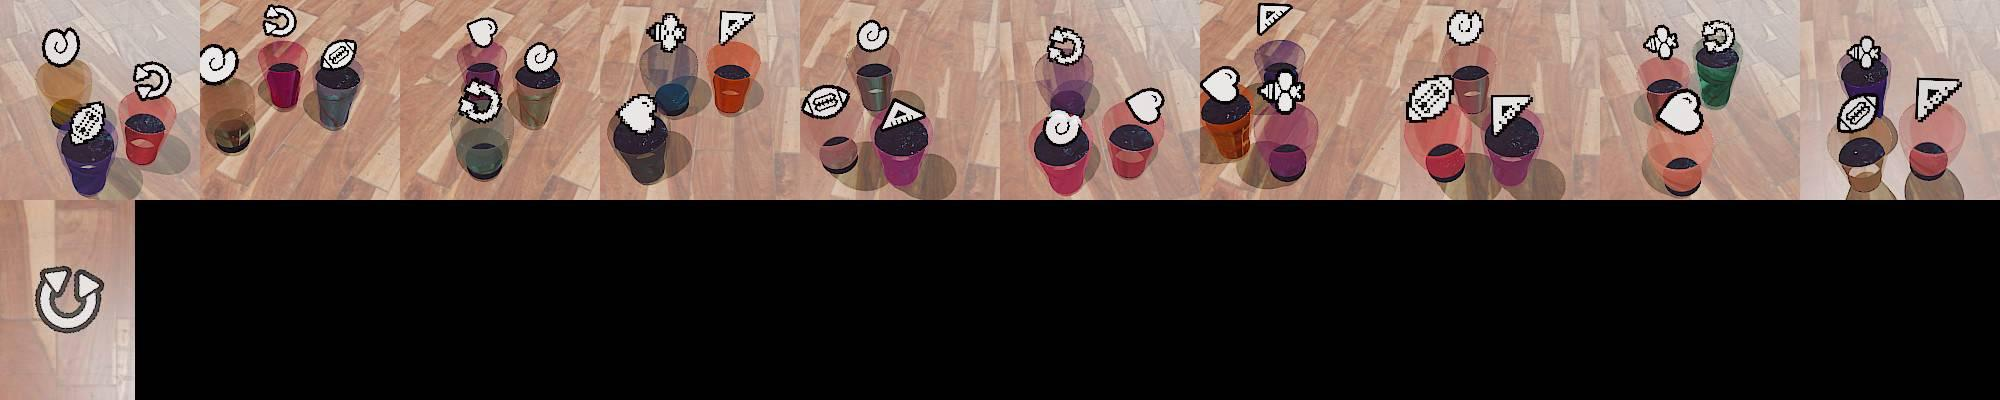icon: (34, 262, 107, 334), (1406, 73, 1457, 125), (1258, 65, 1309, 116), (1654, 88, 1705, 135), (1915, 76, 1963, 122), (457, 79, 504, 124), (1489, 93, 1534, 138), (616, 92, 661, 135), (879, 97, 927, 132), (801, 84, 849, 120), (1837, 93, 1878, 135), (199, 43, 240, 85), (68, 101, 107, 144), (1200, 65, 1241, 106), (131, 60, 172, 101), (648, 11, 687, 54), (1046, 24, 1084, 66), (41, 27, 79, 69), (1124, 87, 1165, 125), (1042, 107, 1083, 145), (1445, 9, 1485, 47), (718, 9, 756, 46), (1644, 24, 1681, 60), (1256, 3, 1293, 37), (319, 38, 357, 71), (1700, 19, 1735, 55), (1846, 36, 1881, 69), (856, 18, 889, 52), (263, 4, 296, 38), (466, 17, 499, 48), (523, 42, 557, 73)
